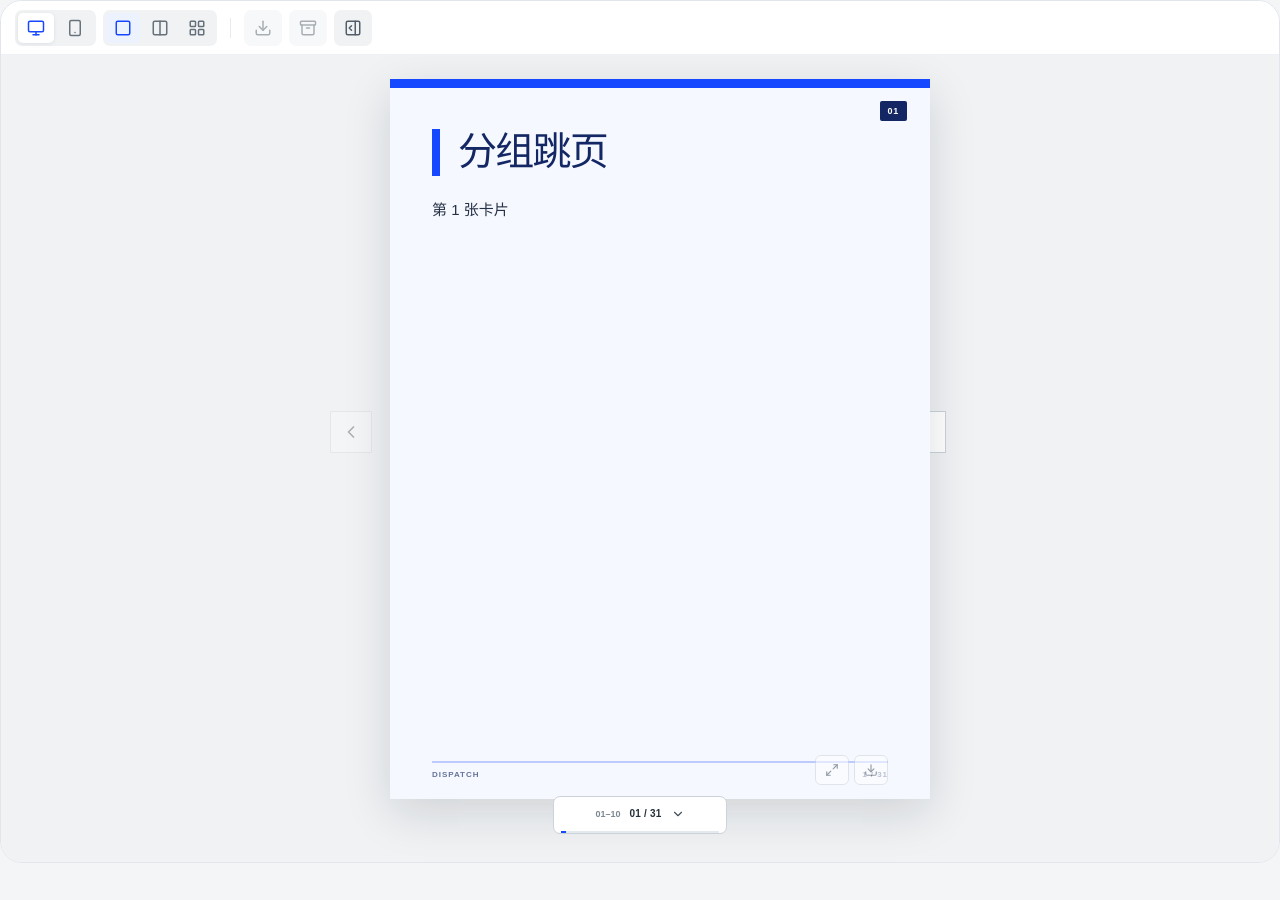
Test: PlatformPreviews editor-to-preview locating › groups 31 Xiaohongshu cards into compact non-overlapping page ranges
Click the button with class "xhs-page-jump-trigger".
click(640, 815)  # box [553,796,727,834]
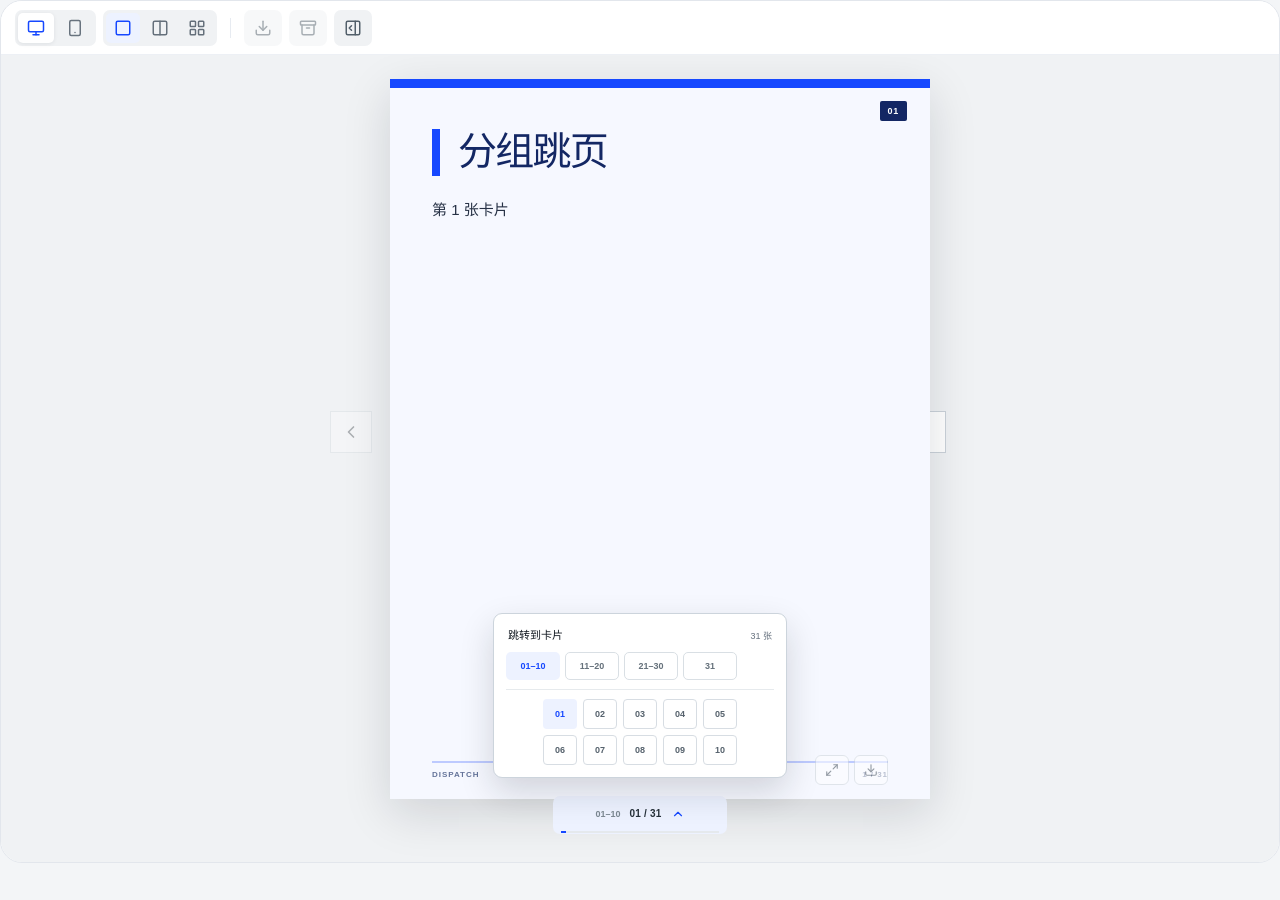
expect the button with class "xhs-page-jump-trigger" is expanded: met, box [553,796,727,834]
Click the button "11–20".
click(592, 666)  # box [565,652,619,680]
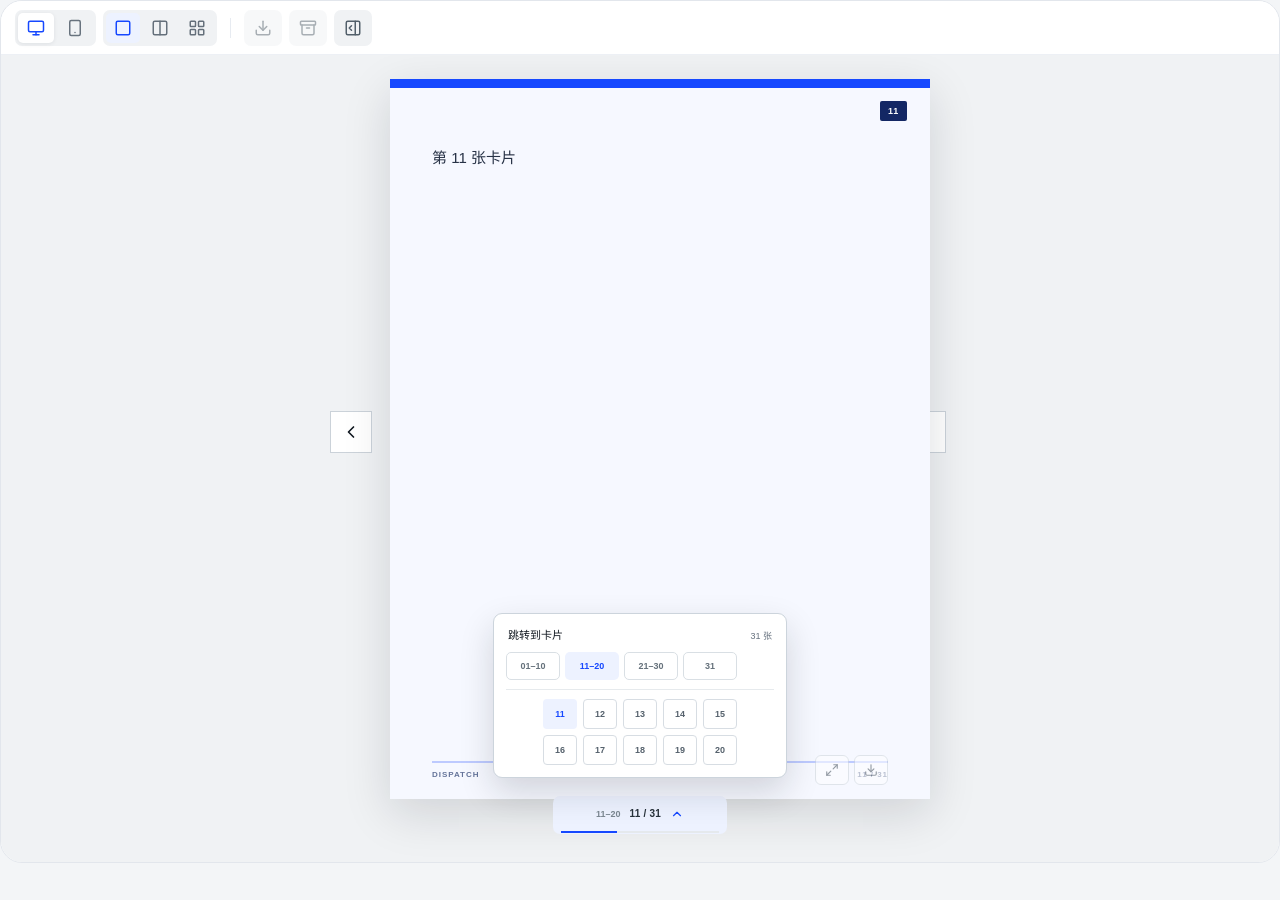
Click the button "17".
click(600, 750)  # box [583,735,617,765]
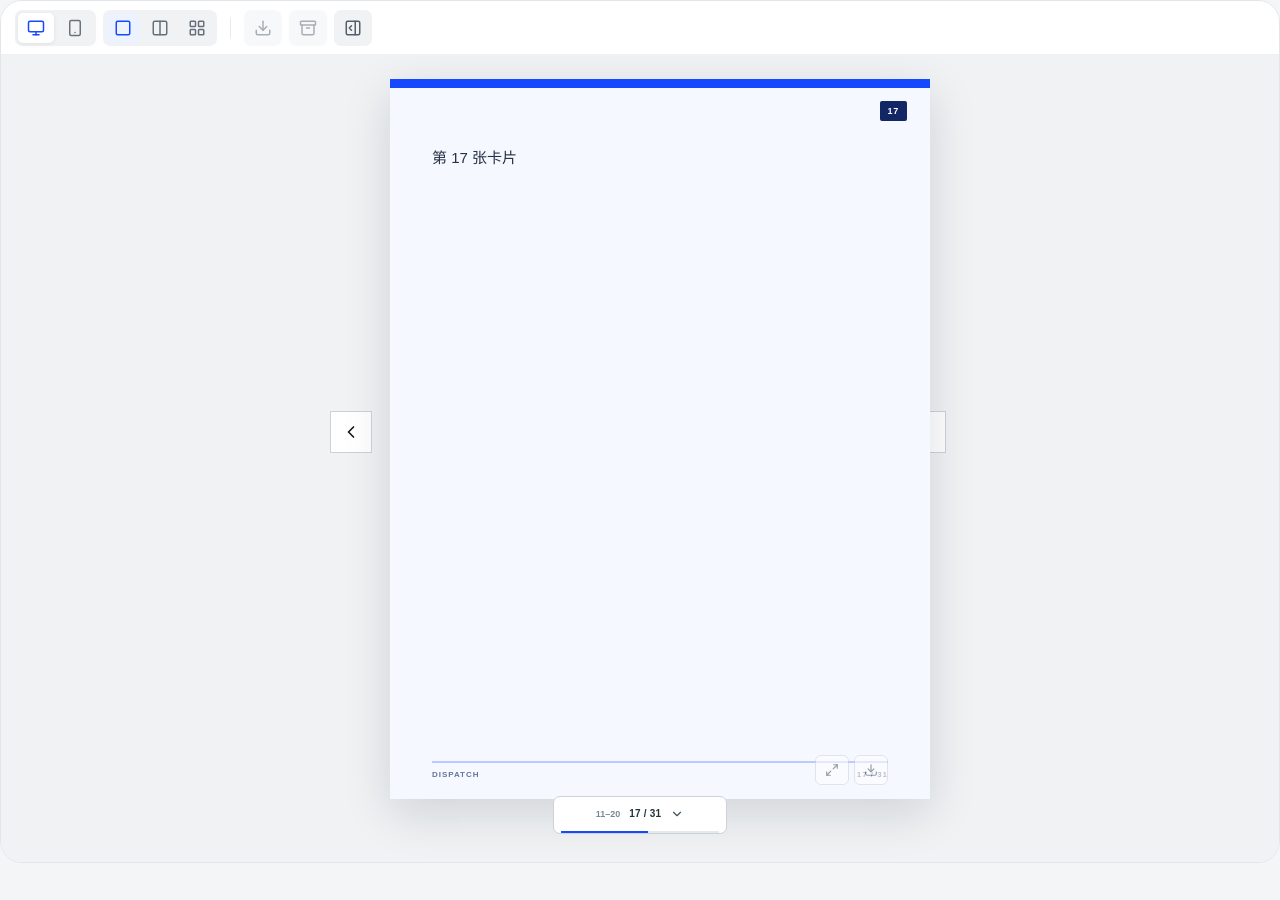
expect the element named "选择卡片页码" is gone: met
expect the button with class "xhs-page-jump-trigger" shows "17 / 31": met, box [553,796,727,834]
expect the element with class "xhs-card-content" reads "第 17 张卡片": met, box [432,149,517,166]
Click the button named "双页预览".
click(160, 28)  # box [143,12,177,42]
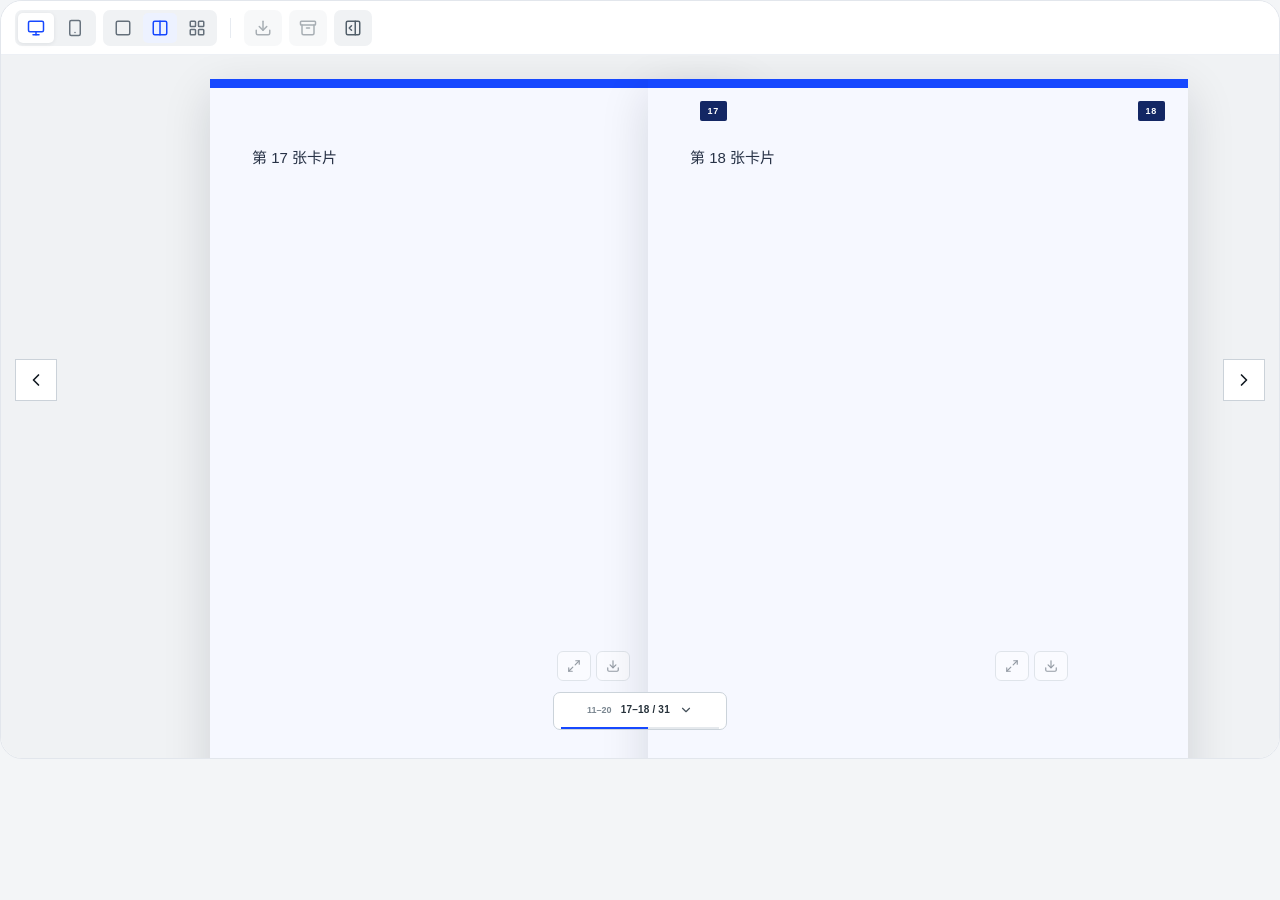
expect the button with class "xhs-page-jump-trigger" shows "17–18 / 31": met, box [553,692,727,730]
Click the button named "整体预览".
click(197, 28)  # box [180,12,214,42]
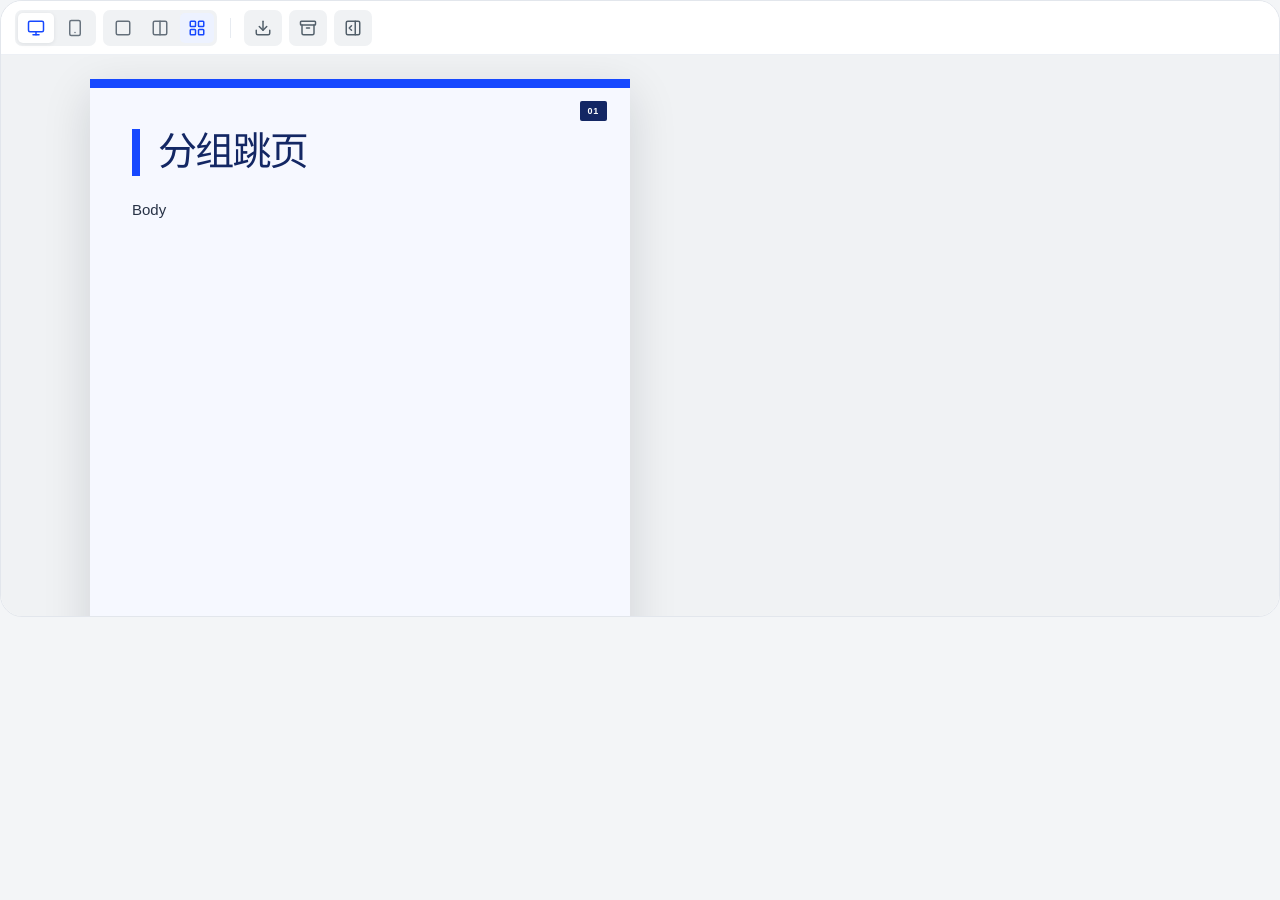
expect the element with class "xhs-page-navigator" is gone: met
